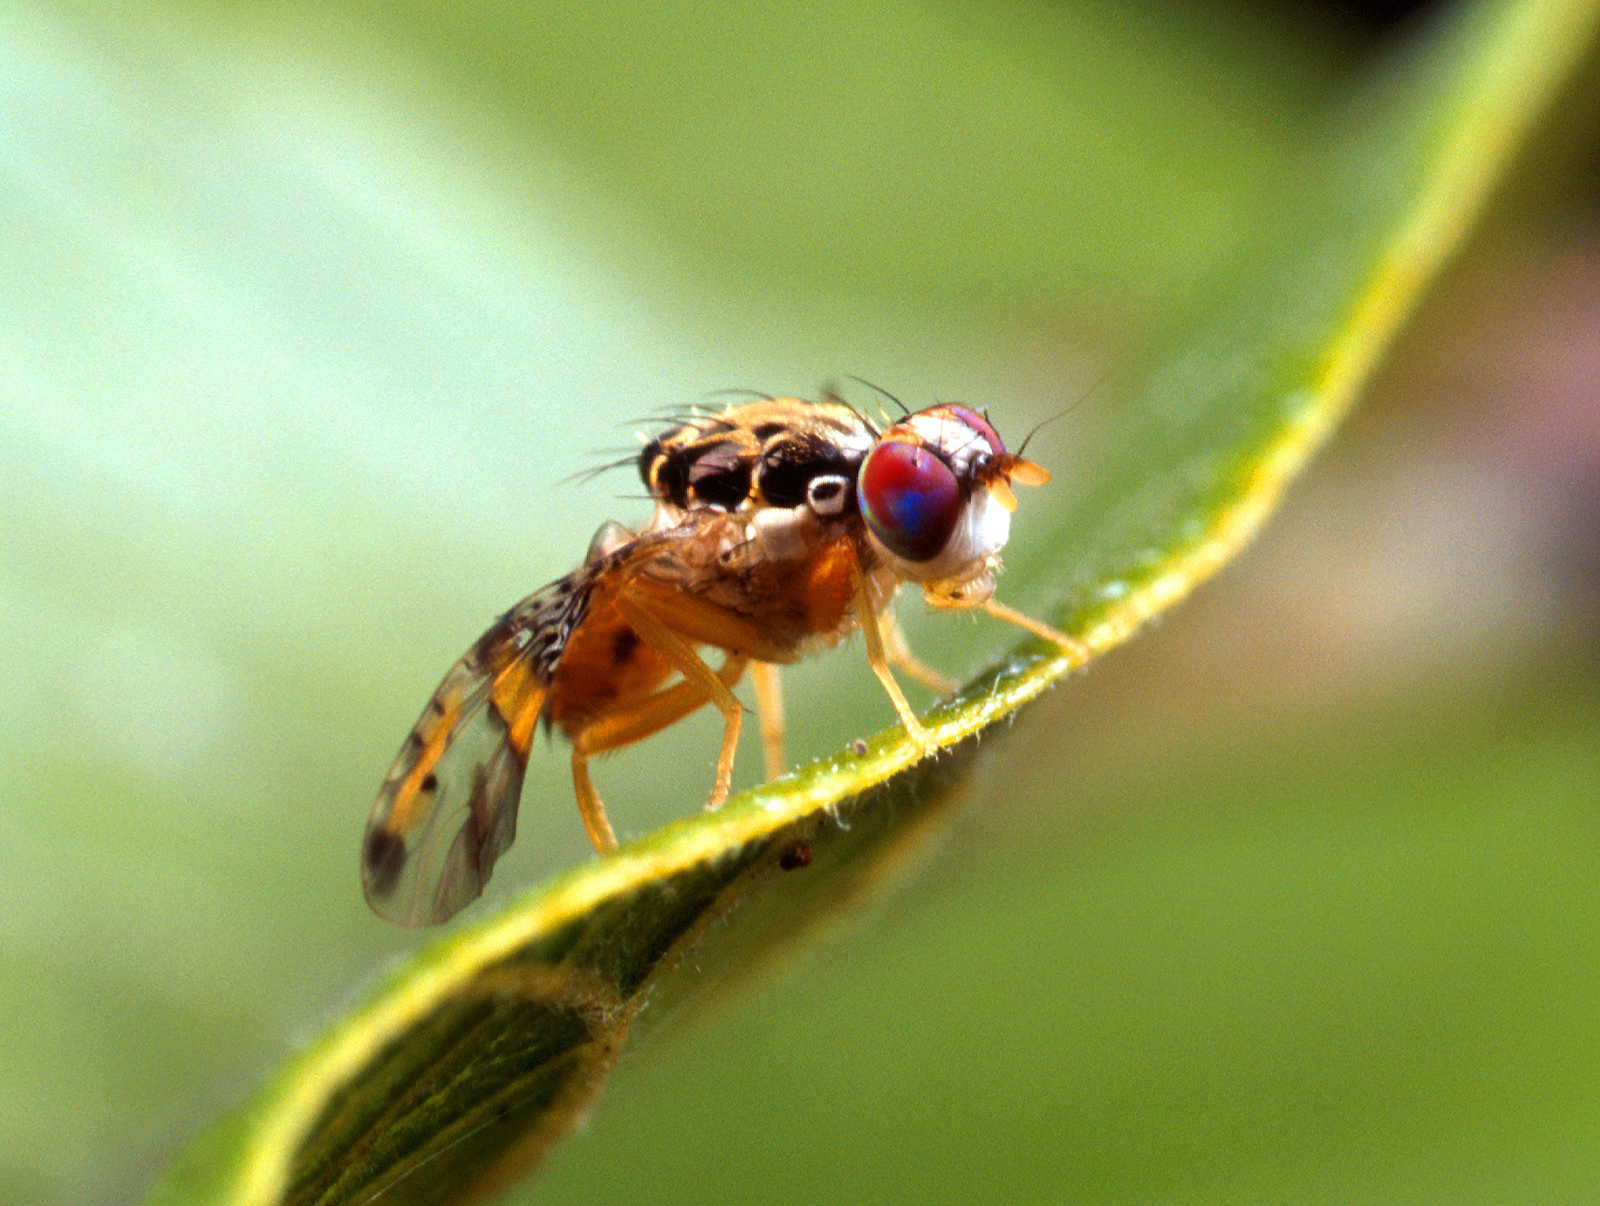Fruit fly: (349, 333, 1081, 851)
